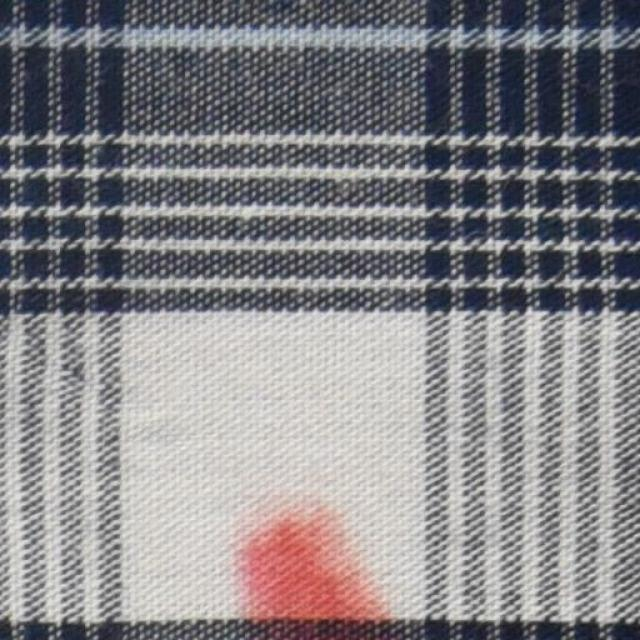Stain: (214, 504, 401, 639)
